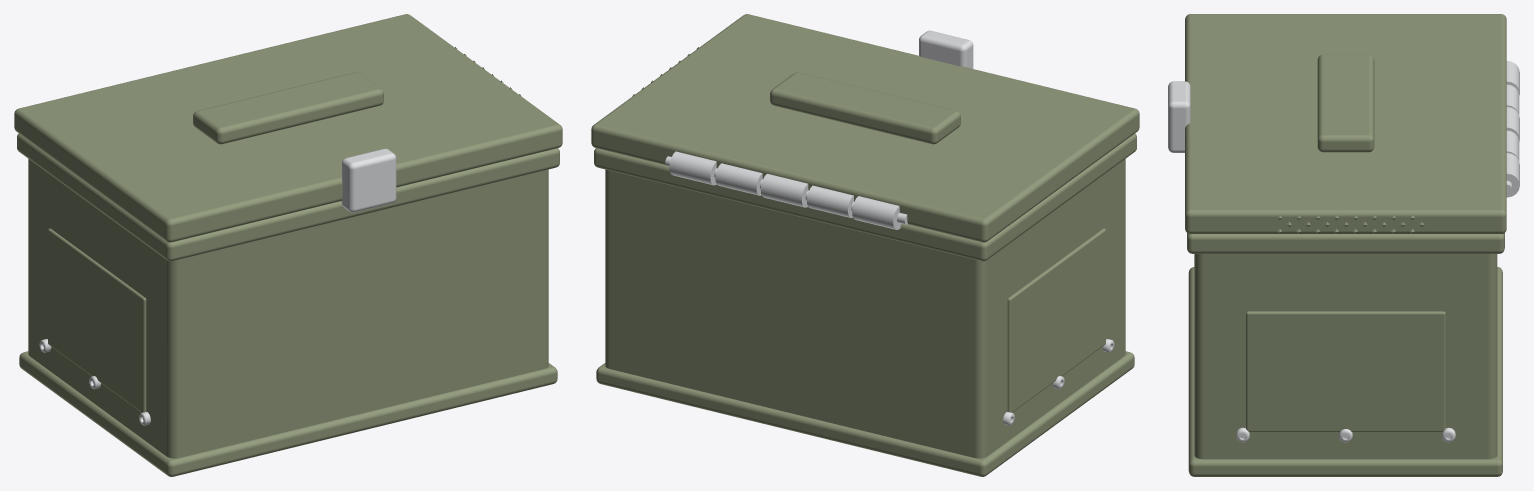
File: mega-weapon-pack-shotgun-ammo-box-6ea6f178__33421.glb
3 renders of one model, left to right at view 1: azimuth 30°, elevation 25°; view 2: azimuth 150°, elevation 25°; view 3: azimuth 270°, elevation 25°, orthographic. The views are drawn at different scales.
Visible parts, largest first — view 1: shotgun-ammo-box, lid/paintOlive, lid/steelBright; view 2: shotgun-ammo-box, lid/paintOlive, lid/steelBright; view 3: shotgun-ammo-box, lid/paintOlive, lid/steelBright.
Boxes of the visible parts, x1,y1,x2,y2 form: shotgun-ammo-box: (17, 133, 559, 476); lid/paintOlive: (14, 14, 562, 242); lid/steelBright: (341, 148, 396, 212); shotgun-ammo-box: (594, 133, 1136, 476); lid/paintOlive: (591, 14, 1139, 242); lid/steelBright: (919, 30, 973, 68); shotgun-ammo-box: (1187, 61, 1519, 476); lid/paintOlive: (1185, 14, 1506, 233); lid/steelBright: (1168, 81, 1190, 152).
Size of the model in its own units: 0.2517 by 0.1685 by 0.186.
